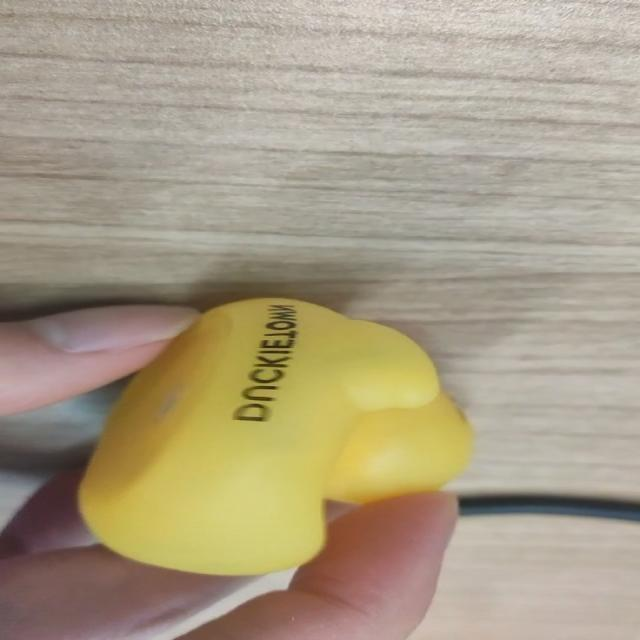rubber-duck: (78, 297, 471, 573)
